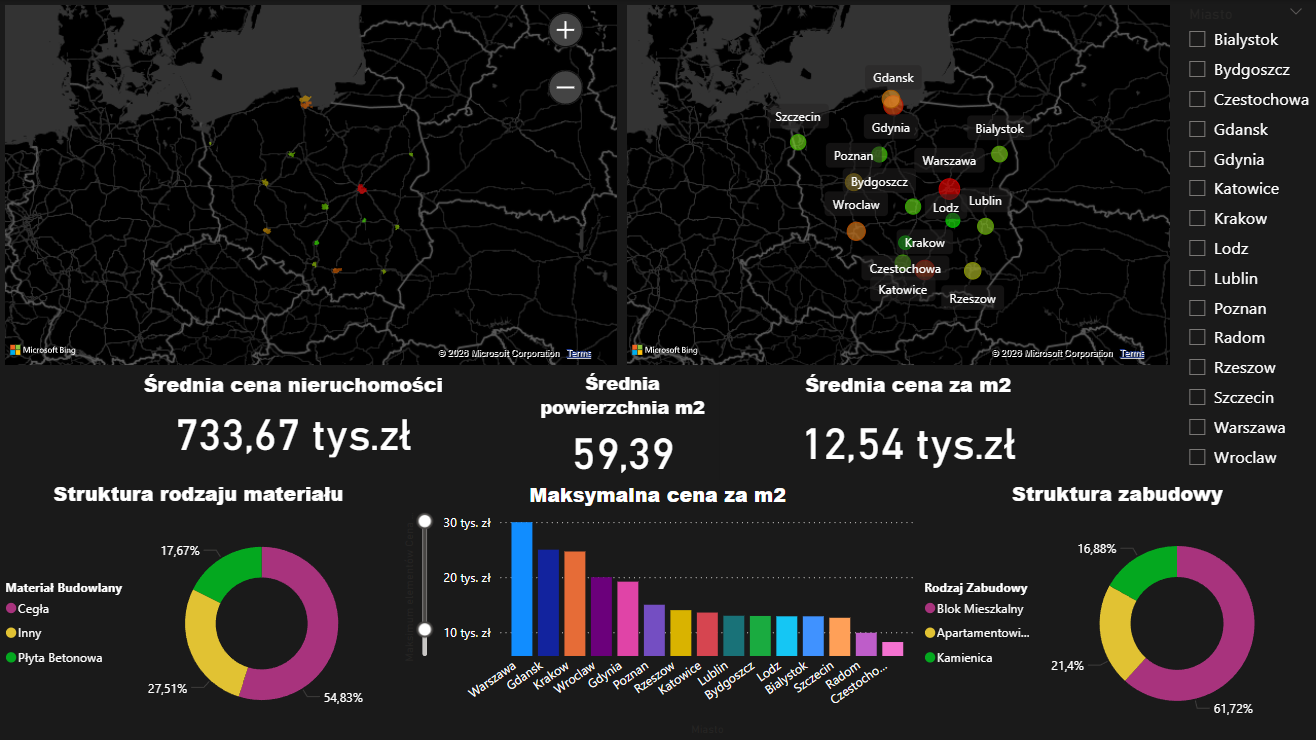

Layout of this report page (visuals, bound fields, positions):
{"tool":"powerbi","page":{"name":"Ogólne dane","canvas":[1280,720],"ordinal":1},"visuals":[{"type":"map","fields":{"Category":["apartments_pl_2023_08.Miasto"],"Size":["Avg(Dane Nieruchomości 15 Miast.Cena za m^2)"],"X":["Avg(Dane Nieruchomości 15 Miast.longitude)"],"Y":["Avg(Dane Nieruchomości 15 Miast.latitude)"]},"box":[605.3,0,538.5,359.8],"z":0},{"type":"card","title":"Średnia cena za m2","fields":{"Values":["Avg(Dane Nieruchomości 15 Miast.Cena za m^2)"]},"box":[622,359.8,521.8,106.7],"z":1000},{"type":"slicer","fields":{"Values":["Dane Nieruchomości 15 Miast.Miasto"]},"box":[1144,0,136,466],"z":2000},{"type":"filledMap","fields":{"Category":["Dane Nieruchomości 15 Miast.Miasto"],"X":["Avg(Dane Nieruchomości 15 Miast.longitude)"],"Y":["Avg(Dane Nieruchomości 15 Miast.latitude)"]},"box":[0,0,605.3,359.8],"z":3000},{"type":"card","title":"Średnia cena nieruchomości","fields":{"Values":["Avg(Dane Nieruchomości 15 Miast.Cena)"]},"box":[0,359.8,570.6,90],"z":4000},{"type":"donutChart","title":"Struktura zabudowy","fields":{"Category":["Dane Nieruchomości 15 Miast.Rodzaj Zabudowy"],"Y":["CountNonNull(Dane Nieruchomości 15 Miast.Miasto)"]},"box":[894,466,386,254],"z":5000},{"type":"donutChart","title":"Struktura rodzaju materiału","fields":{"Y":["CountNonNull(Dane Nieruchomości 15 Miast.Miasto)"],"Category":["Dane Nieruchomości 15 Miast.Materiał Budowlany"]},"box":[0,466,386,254],"z":6000},{"type":"columnChart","title":"Maksymalna cena za m2 ","fields":{"Y":["Max(Dane Nieruchomości 15 Miast.Cena za m^2)"],"Category":["Dane Nieruchomości 15 Miast.Miasto"],"Series":["Dane Nieruchomości 15 Miast.Miasto"]},"box":[385.5,466.5,508.9,253.2],"z":7000},{"type":"card","title":"Średnia powierzchnia m2","fields":{"Values":["Avg(Dane Nieruchomości 15 Miast.Powierzchnia (m^2))"]},"box":[511.5,359.8,187.6,106.7],"z":7001}]}

Visuals, with their boxes in screenshot pixels (x1, y1, x2, y2), scaled from the page's 1280x720 canvas onto the 1316x740 screenshot:
map - apartments_pl_2023_08.Miasto x Avg(Dane Nieruchomości 15 Miast.Cena za m^2): [left=622, top=0, right=1176, bottom=370]
"Średnia cena za m2" card: [left=639, top=370, right=1176, bottom=479]
slicer - Dane Nieruchomości 15 Miast.Miasto: [left=1176, top=0, right=1315, bottom=479]
filledMap - Dane Nieruchomości 15 Miast.Miasto x Avg(Dane Nieruchomości 15 Miast.longitude): [left=0, top=0, right=622, bottom=370]
"Średnia cena nieruchomości" card: [left=0, top=370, right=587, bottom=462]
"Struktura zabudowy" donutChart: [left=919, top=479, right=1315, bottom=739]
"Struktura rodzaju materiału" donutChart: [left=0, top=479, right=397, bottom=739]
"Maksymalna cena za m2 " columnChart: [left=396, top=479, right=920, bottom=739]
"Średnia powierzchnia m2" card: [left=526, top=370, right=719, bottom=479]
